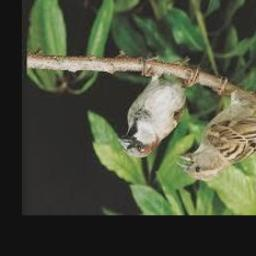Sparrow: (175, 77, 256, 181), (117, 58, 199, 158)
